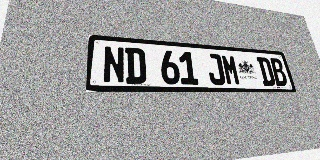1: (178, 51, 199, 85)
6: (159, 50, 181, 84)
B: (269, 58, 289, 86)
D: (125, 47, 147, 84), (256, 57, 276, 86)
J: (205, 53, 226, 85)
M: (221, 54, 241, 85)
N: (103, 46, 125, 84)
